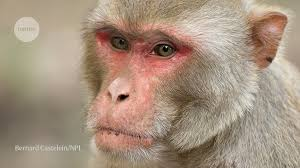monkey: (45, 5, 290, 168)
